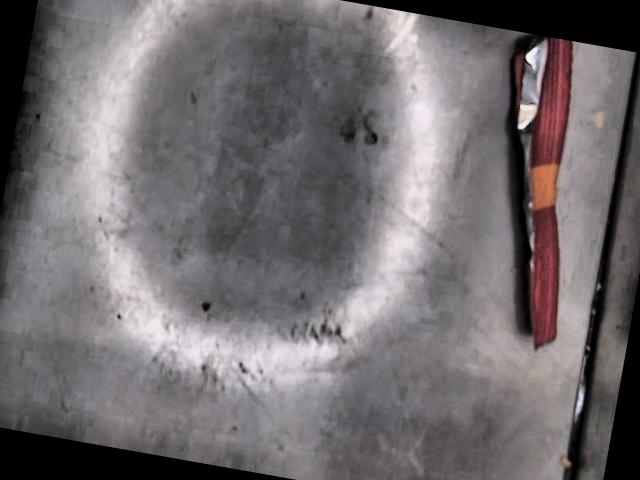Plastic: (508, 35, 572, 346)
